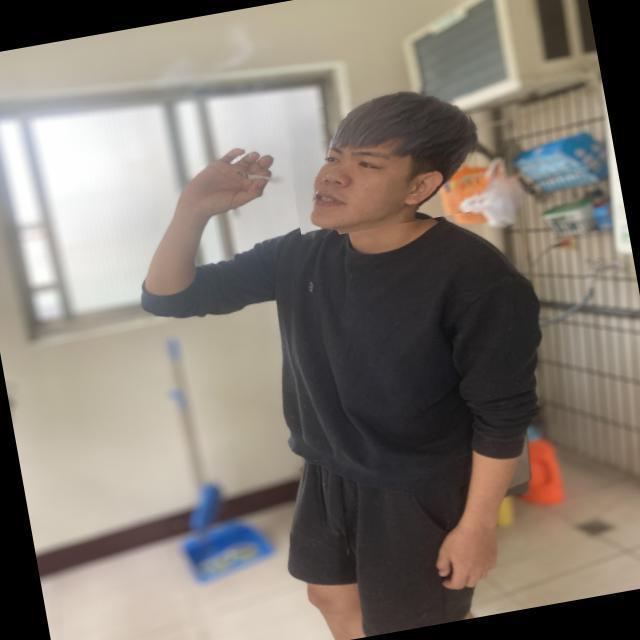cigarette: (240, 159, 290, 199)
